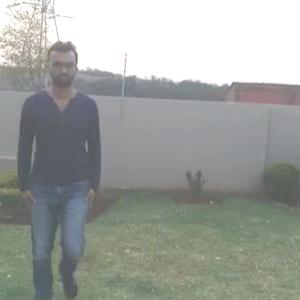follow: (19, 38, 100, 299)
